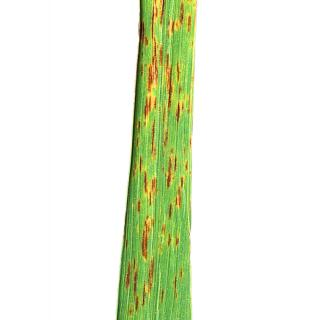Bercak-Cokelat-Sempit: (141, 40, 191, 126), (150, 1, 202, 36), (125, 259, 156, 310), (138, 125, 175, 152), (161, 264, 184, 306), (160, 222, 180, 249), (141, 173, 158, 201), (136, 19, 151, 46), (166, 154, 177, 188), (143, 214, 150, 262), (163, 200, 175, 218), (134, 156, 148, 170), (173, 194, 185, 208), (184, 161, 192, 175), (180, 176, 186, 192)
